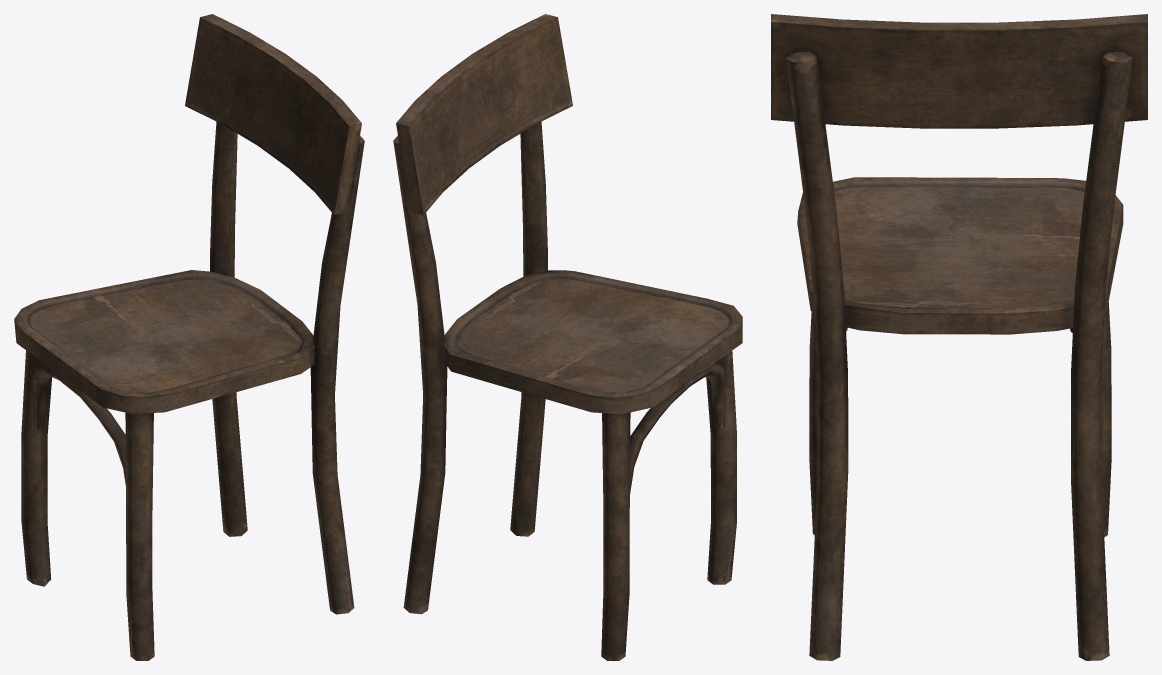
The model's file is SM_chair_01.fbx.
3 renders of one model, left to right at view 1: azimuth 30°, elevation 25°; view 2: azimuth 150°, elevation 25°; view 3: azimuth 270°, elevation 25°, orthographic. The views are drawn at different scales.
Visible parts, largest first — view 1: SM_chair_01_LOD0; view 2: SM_chair_01_LOD0; view 3: SM_chair_01_LOD0.
Part boxes in pixels (x1,y1,x2,y2): SM_chair_01_LOD0: (14,14,364,660); SM_chair_01_LOD0: (393,14,742,660); SM_chair_01_LOD0: (771,14,1147,660).
Size of the model in its own units: 46.57 by 49.73 by 92.74.
1 material, 1 textured.
